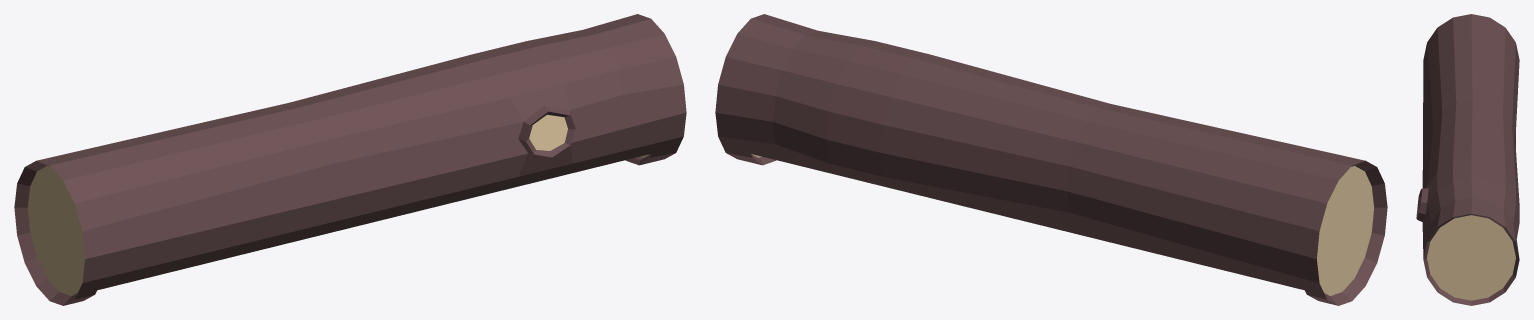
Rendered from Koda(1).fbx.
3 renders of one model, left to right at view 1: azimuth 30°, elevation 25°; view 2: azimuth 150°, elevation 25°; view 3: azimuth 270°, elevation 25°, orthographic. The views are drawn at different scales.
Parts seen in each view (by area): view 1: Kłoda; view 2: Kłoda; view 3: Kłoda.
Part boxes in pixels (x1,y1,x2,y2): Kłoda: (14,14,686,305); Kłoda: (715,14,1387,305); Kłoda: (1416,14,1519,305).
Bounding box in the file's own units: 8487 × 1830 × 1854.
